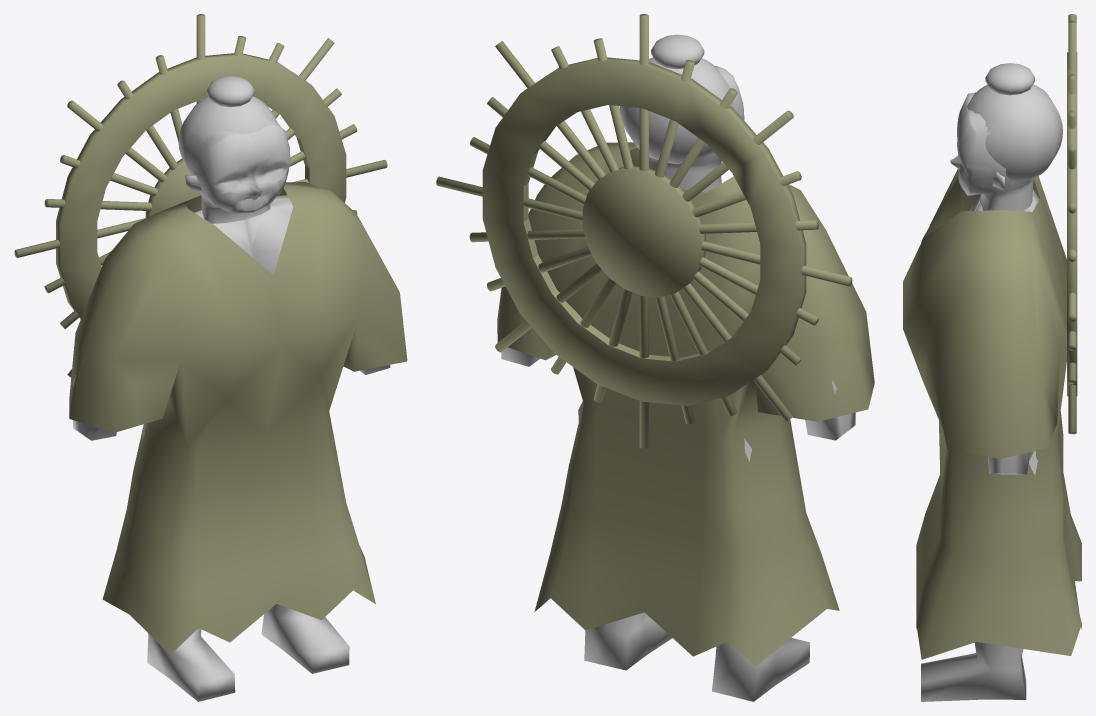
File: tenasi.fbx
3 renders of one model, left to right at view 1: azimuth 30°, elevation 25°; view 2: azimuth 150°, elevation 25°; view 3: azimuth 270°, elevation 25°, orthographic. The views are drawn at different scales.
Visible parts, largest first — view 1: 服, obj20, 体1, 顔, 頭, 頭２; view 2: 服, obj20, 体1, 頭, 顔, 頭２; view 3: 服, 体1, 頭, obj20, 顔, 頭２.
Part boxes in pixels (bbox=[...]): 服: bbox=[69, 182, 407, 654]; obj20: bbox=[14, 14, 387, 377]; 体1: bbox=[73, 195, 390, 701]; 顔: bbox=[191, 118, 290, 223]; 頭: bbox=[178, 96, 277, 175]; 頭２: bbox=[207, 76, 254, 107]; 服: bbox=[497, 142, 874, 666]; obj20: bbox=[436, 14, 852, 448]; 体1: bbox=[501, 190, 855, 701]; 頭: bbox=[619, 57, 733, 164]; 顔: bbox=[649, 66, 744, 191]; 頭２: bbox=[651, 34, 704, 69]; 服: bbox=[903, 169, 1081, 659]; 体1: bbox=[921, 189, 1039, 701]; 頭: bbox=[965, 84, 1062, 180]; obj20: bbox=[1067, 14, 1077, 434]; 顔: bbox=[950, 92, 1033, 211]; 頭２: bbox=[985, 63, 1034, 95].
Bounding box in the file's own units: 115 × 183 × 46.27.
